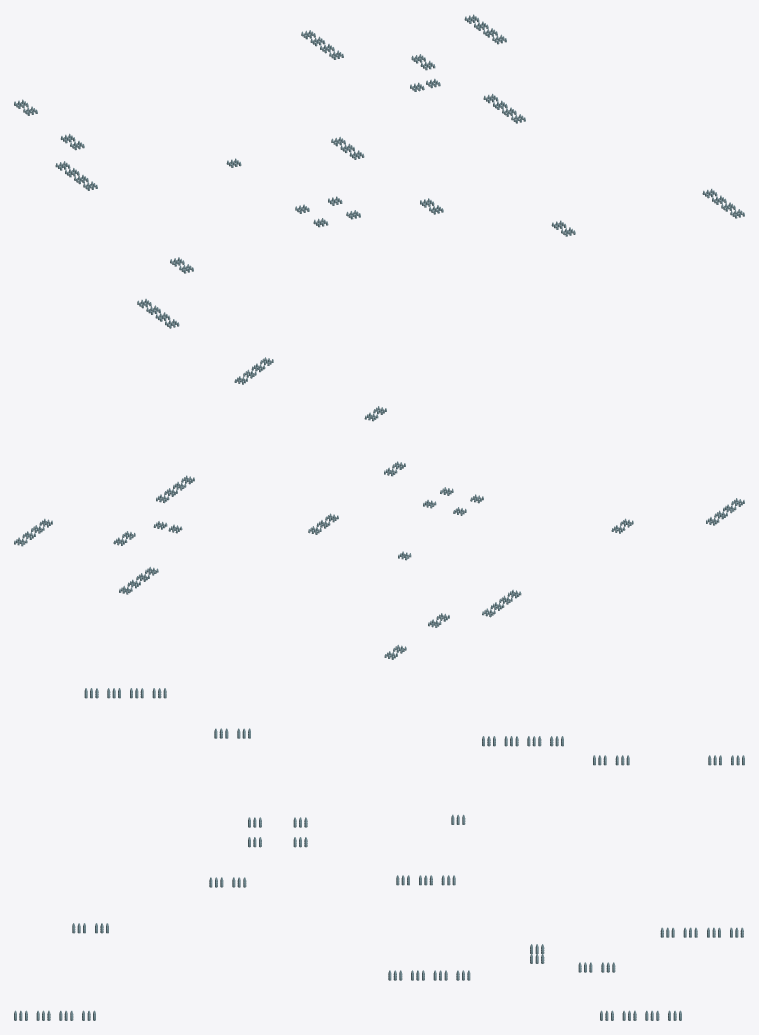
File: Spikes.fbx
3 views of the same model, one above another, from view 1: azimuth 30°, elevation 25°; view 2: azimuth 150°, elevation 25°; view 3: azimuth 270°, elevation 25° (orthographic). The views are drawn at different scales.
Size of the model in its own units: 3.11 by 0.023 by 2.92.
